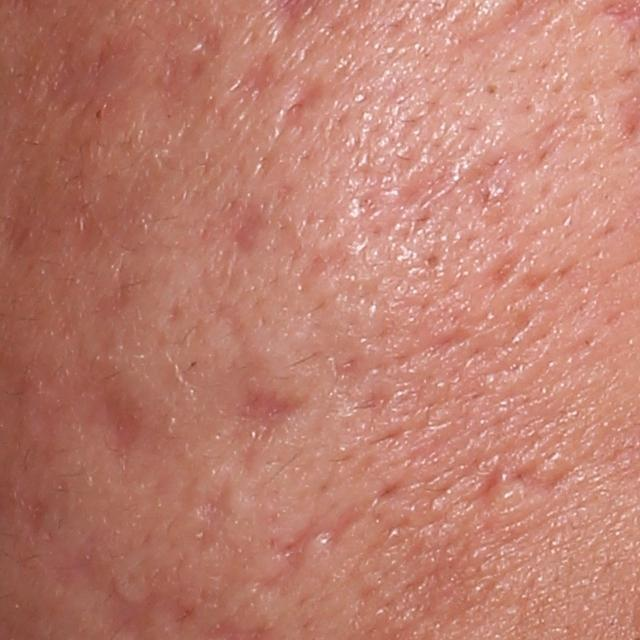atrophic_scar: (14, 20, 141, 122), (251, 494, 371, 592), (75, 366, 143, 475), (470, 456, 578, 522), (154, 20, 218, 103), (462, 151, 515, 220), (221, 184, 272, 254), (227, 390, 293, 440), (222, 46, 282, 92), (270, 76, 326, 122), (402, 330, 479, 357), (194, 479, 226, 543), (490, 249, 521, 285)
comedo: (484, 81, 501, 99)
